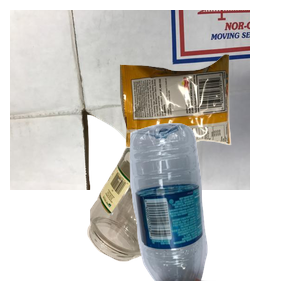cardboard: (10, 10, 250, 190)
glass: (85, 141, 275, 300)
plastic: (127, 120, 300, 300)
trash: (117, 52, 300, 193)
